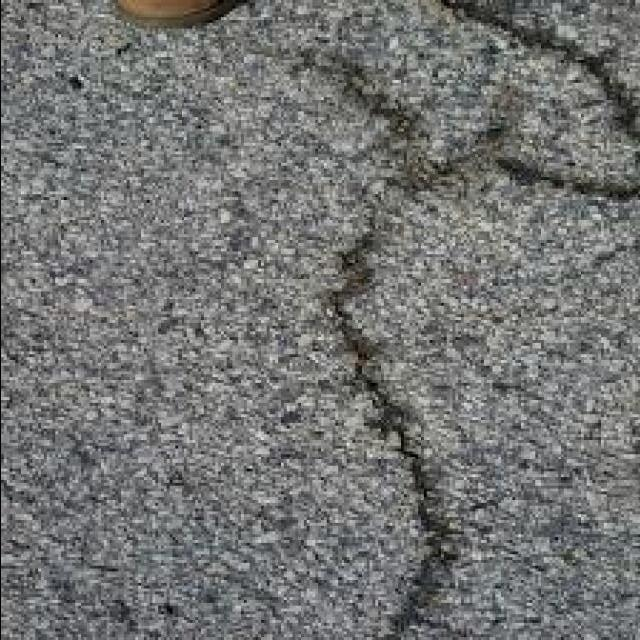SurfaceCrack: (292, 0, 600, 640)
